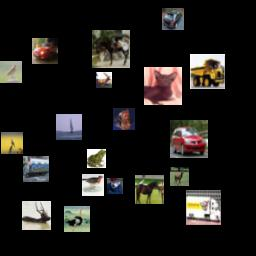automobile: (170, 120, 208, 158), (32, 38, 58, 64), (162, 8, 184, 30)
bird: (64, 206, 90, 232), (0, 61, 22, 83), (1, 132, 23, 154), (82, 174, 104, 196)
cat: (144, 67, 182, 105), (107, 178, 123, 194)
deer: (22, 201, 51, 230), (170, 167, 189, 186), (96, 72, 112, 88)
dog: (113, 108, 135, 130)
frog: (87, 149, 106, 168)
ship: (56, 114, 82, 140)
truck: (190, 54, 225, 89), (186, 190, 221, 225), (23, 156, 49, 182)
